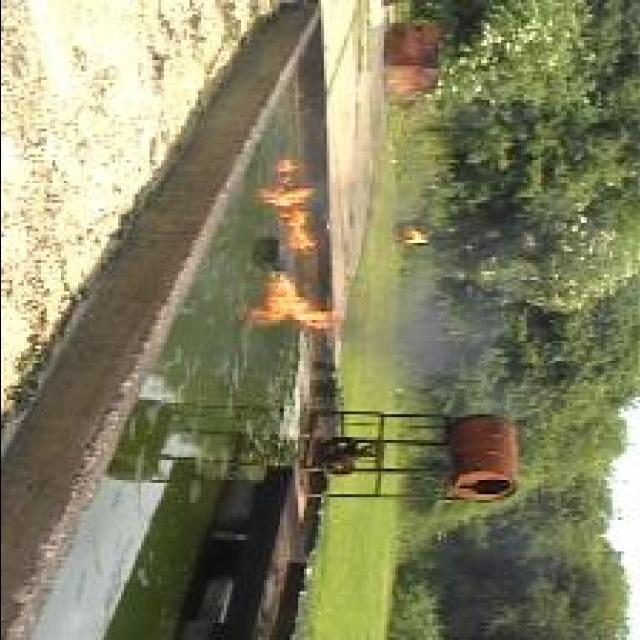Fire: (250, 272, 336, 334), (262, 161, 316, 253)
